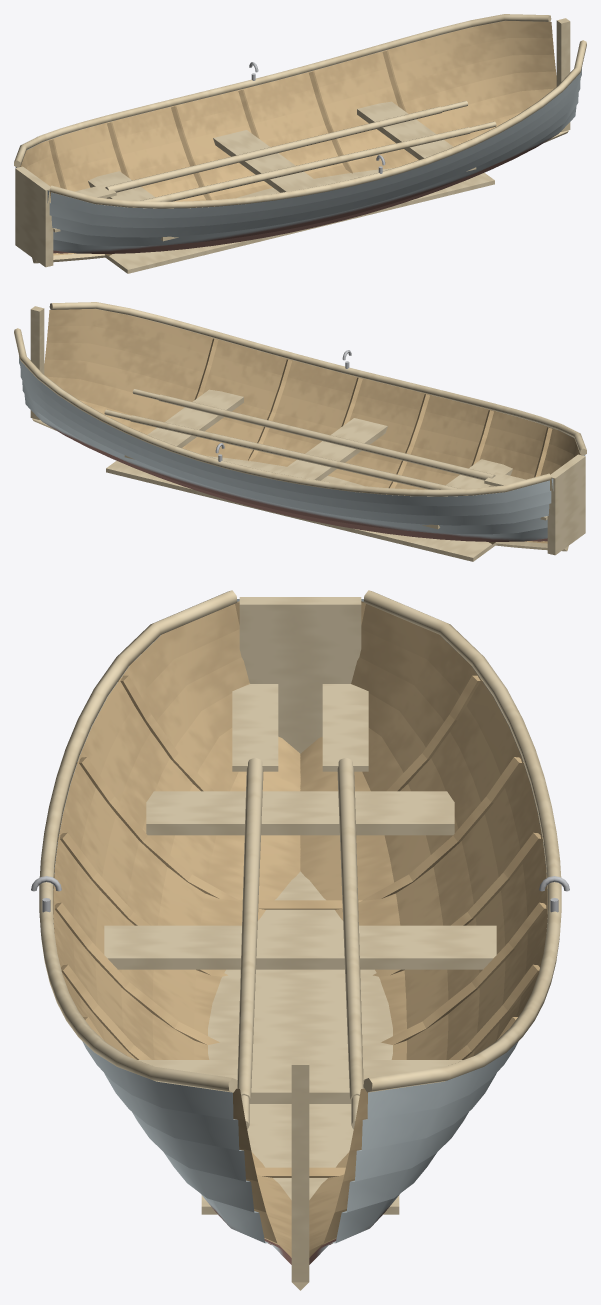
Rendered from boat.fbx.
The picture shows the model from 3 angles, top to bottom: view 1: azimuth 30°, elevation 25°; view 2: azimuth 150°, elevation 25°; view 3: azimuth 270°, elevation 25°; orthographic projection. The views are drawn at different scales.
Parts seen in each view (by area): view 1: boat; view 2: boat; view 3: boat.
Part boxes in pixels (left/top/right/bottom): boat: left=14, top=14, right=586, bottom=273; boat: left=14, top=302, right=586, bottom=561; boat: left=31, top=590, right=569, bottom=1290.
Size of the model in its own units: 352 by 86.42 by 153.
1 material, 1 textured.
